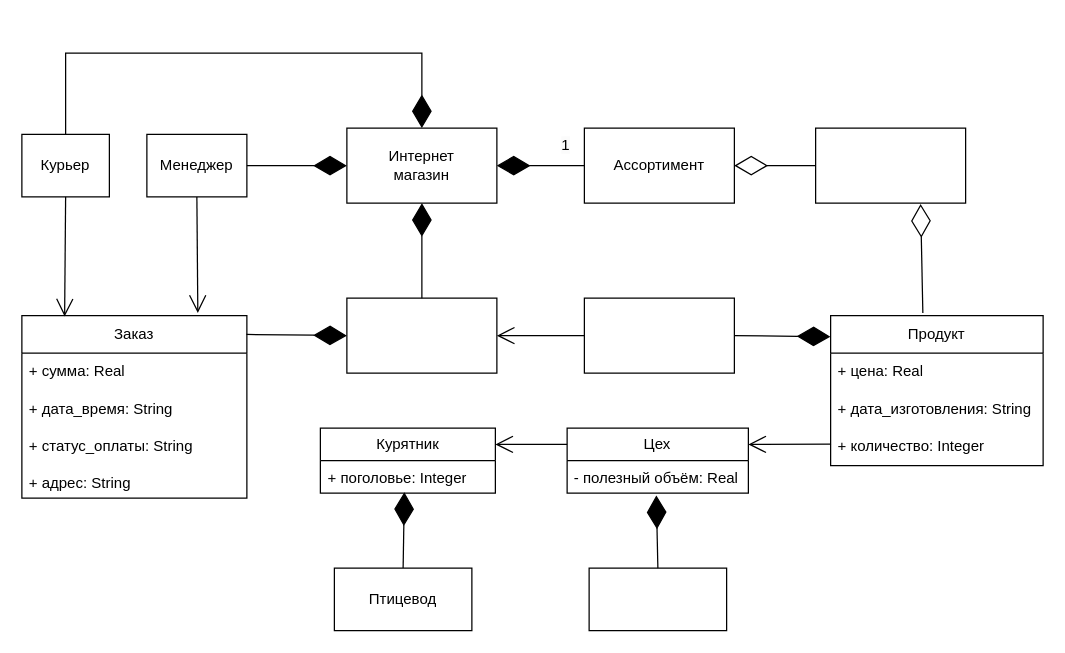
The diagram is 1065 pixels wide and 653 high, and some of its shapes have lost their labels. Here are the shapes that lost their labels. From the top down, the centre of each, then its label:
At pixel 890 165: "Категория".
At pixel 421 335: "Покупатель".
At pixel 658 335: "Отзыв".
At pixel 657 599: "Работник цеха".
